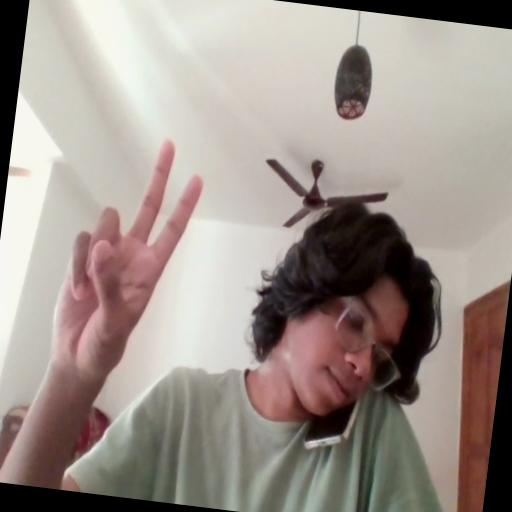scissor: (42, 110, 214, 395)
